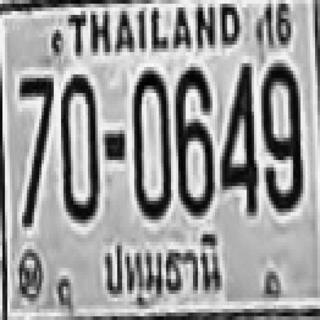N00: (133, 69, 170, 218), (62, 73, 98, 222)
N04: (221, 60, 258, 212)
N06: (176, 66, 215, 215)
N07: (18, 76, 53, 225)
N09: (261, 61, 302, 210)
P38: (98, 221, 226, 314)
